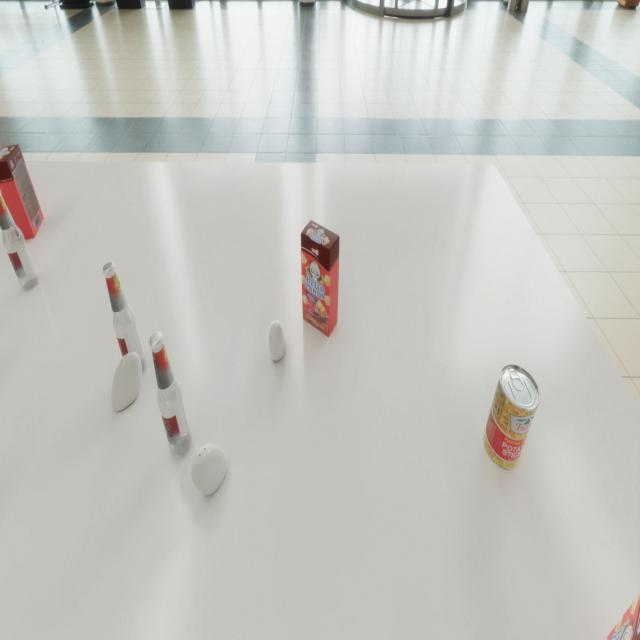Bottle: (149, 332, 192, 458), (103, 262, 146, 378), (0, 188, 39, 290)
HelloPanda: (300, 220, 340, 337), (0, 144, 44, 242)
Potato_sticks: (483, 364, 540, 470)
Salt: (191, 444, 228, 495), (111, 352, 142, 411), (268, 320, 285, 361)
